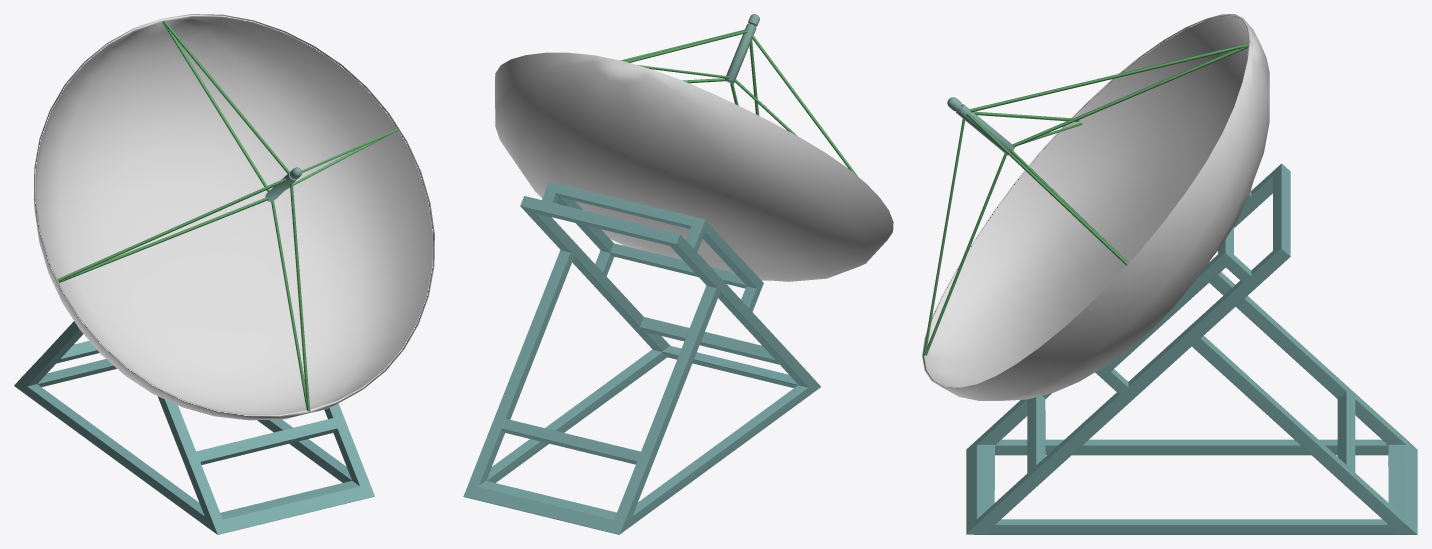
Rendered from anntena.fbx.
The picture shows the model from 3 angles, left to right: view 1: azimuth 30°, elevation 25°; view 2: azimuth 150°, elevation 25°; view 3: azimuth 270°, elevation 25°; orthographic projection. The views are drawn at different scales.
Parts seen in each view (by area): view 1: anntena; view 2: anntena; view 3: anntena.
Part boxes in pixels (x1=…): anntena: x1=14, y1=14, x2=434, y2=534; anntena: x1=463, y1=14, x2=893, y2=534; anntena: x1=922, y1=14, x2=1417, y2=534.
Bounding box in the file's own units: 203 × 210 × 210.
